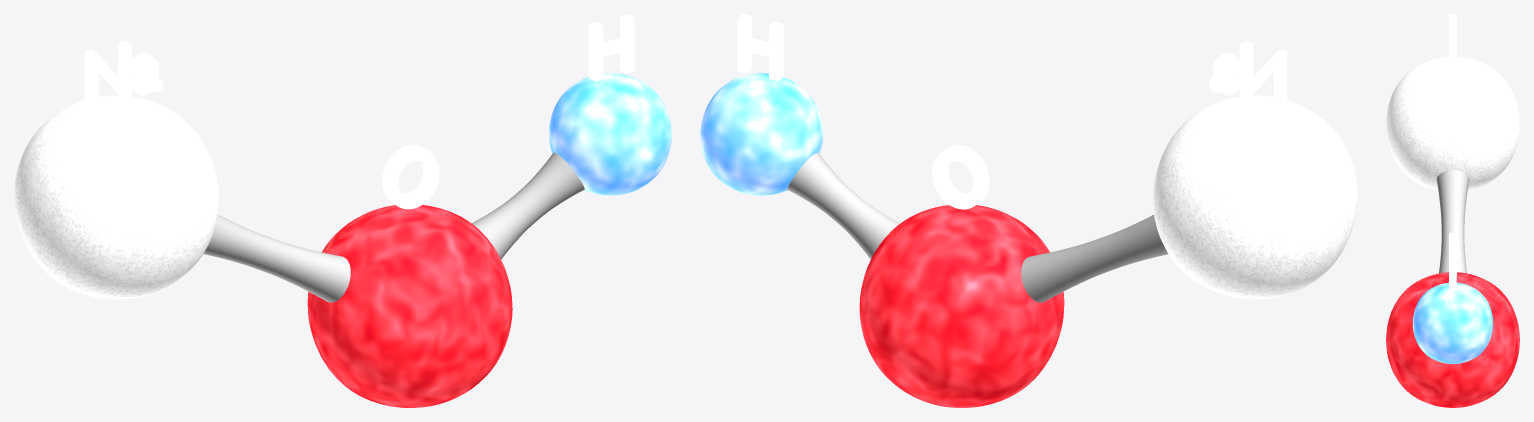
File: NaOH.glb
The picture shows the model from 3 angles, left to right: view 1: azimuth 30°, elevation 25°; view 2: azimuth 150°, elevation 25°; view 3: azimuth 270°, elevation 25°; orthographic projection. The views are drawn at different scales.
Parts seen in each view (by area): view 1: Text.006; view 2: Text.006; view 3: Text.006.
Part boxes in pixels (x1,y1,x2,y2): Text.006: (14, 14, 671, 407); Text.006: (700, 14, 1357, 407); Text.006: (1386, 14, 1519, 407).
Size of the model in its own units: 7.05 by 4.5 by 1.94.
Materials: 5 (3 with a texture image).
